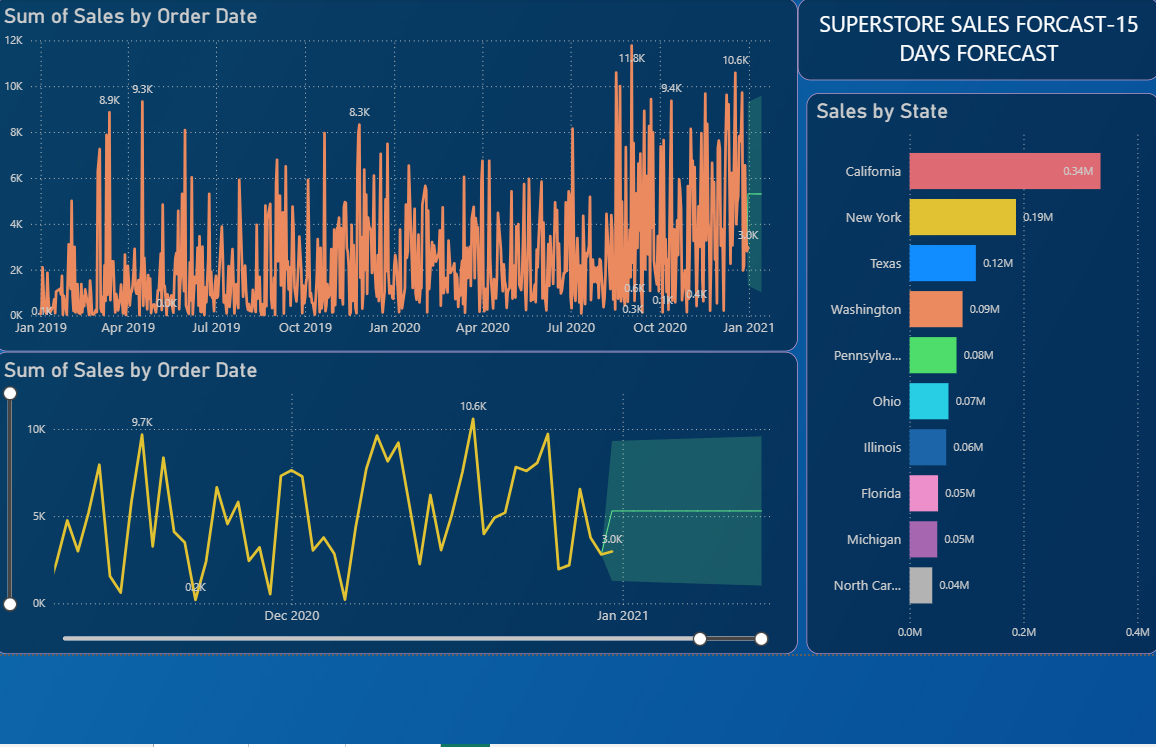

The page's visual inventory and layout, read from the dashboard file:
{"tool":"powerbi","page":{"name":"Page 2","canvas":[1280,720],"ordinal":1},"visuals":[{"type":"lineChart","fields":{"Y":["Sum(SuperStore_Sales_Dataset.Sales)"],"Category":["SuperStore_Sales_Dataset.Order Date"]},"box":[0,0,882.3,388.3],"z":0},{"type":"lineChart","fields":{"Y":["Sum(SuperStore_Sales_Dataset.Sales)"],"Category":["SuperStore_Sales_Dataset.Order Date"]},"box":[0,388.3,882.3,332.1],"z":1}]}

Visuals, with their boxes on the page's 1280x720 design canvas (x1, y1, x2, y2). These are canvas units, not pixel positions in the 1156x747 screenshot, which may show the page scaled, cropped or inside an application window:
lineChart - Sum(SuperStore_Sales_Dataset.Sales) x SuperStore_Sales_Dataset.Order Date: <region>0, 0, 882, 388</region>
lineChart - Sum(SuperStore_Sales_Dataset.Sales) x SuperStore_Sales_Dataset.Order Date: <region>0, 388, 882, 720</region>
